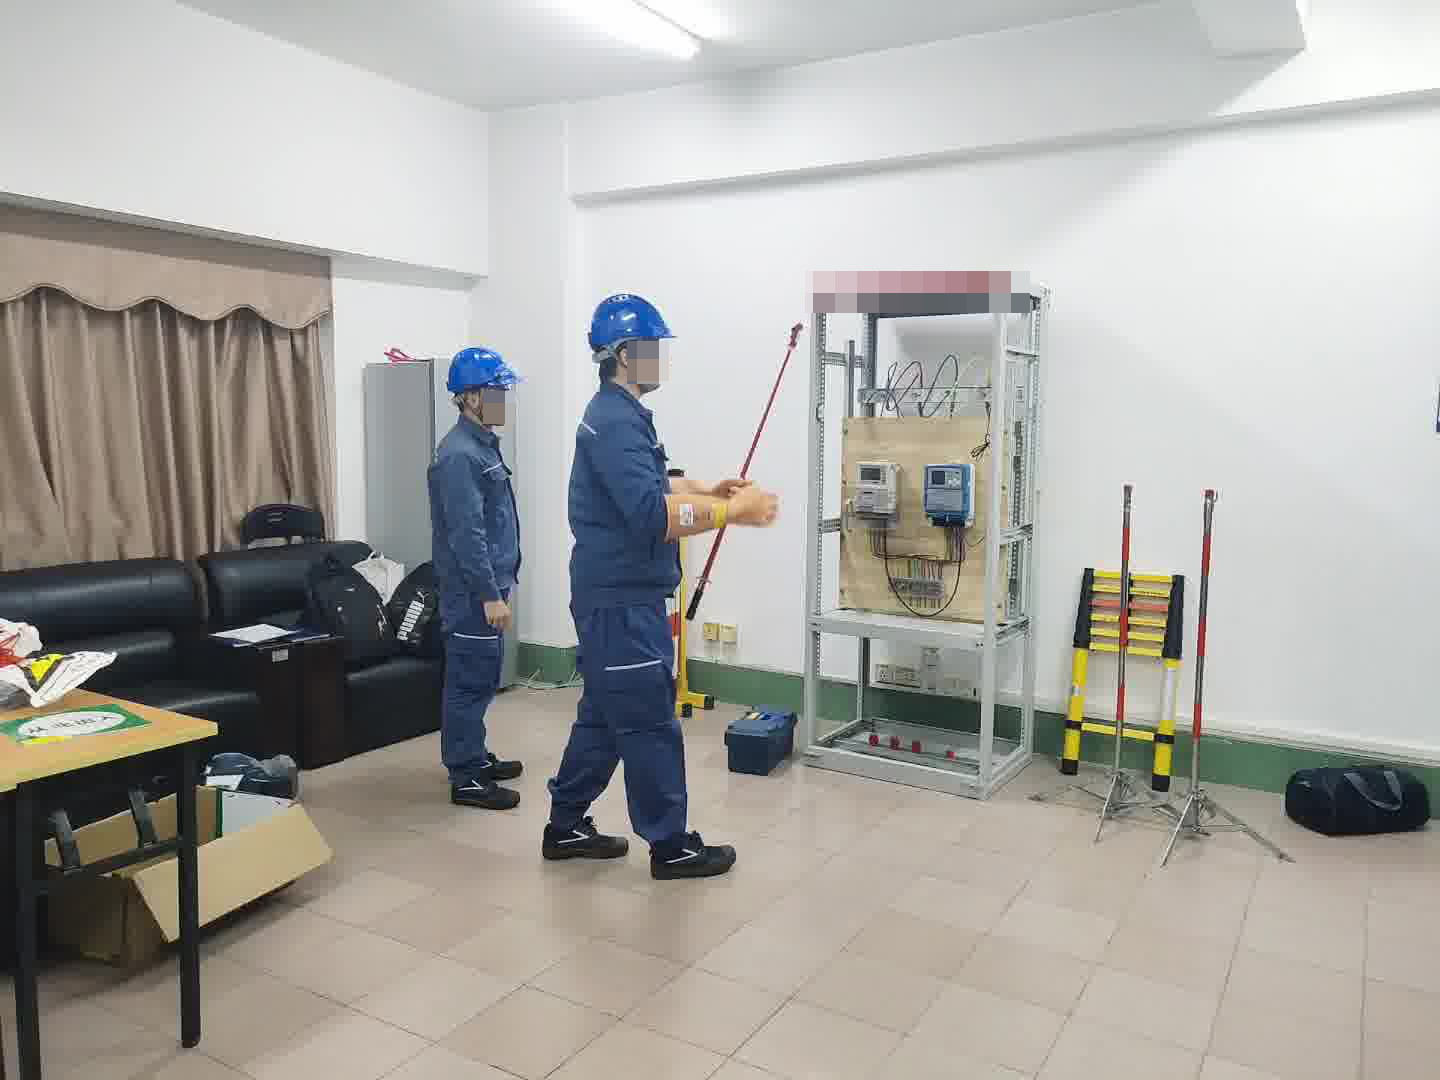downsuit: (546, 611, 694, 842), (434, 595, 509, 772)
halt: (588, 294, 677, 391), (446, 346, 523, 427)
hand: (481, 594, 513, 634)
inear: (609, 336, 647, 385), (460, 387, 489, 426)
longglove: (662, 471, 779, 550)
person: (542, 290, 779, 882), (421, 341, 528, 816)
testrod: (685, 323, 805, 625)
upsuit: (563, 388, 681, 606), (427, 422, 521, 595)
wronghold: (683, 414, 779, 601)
